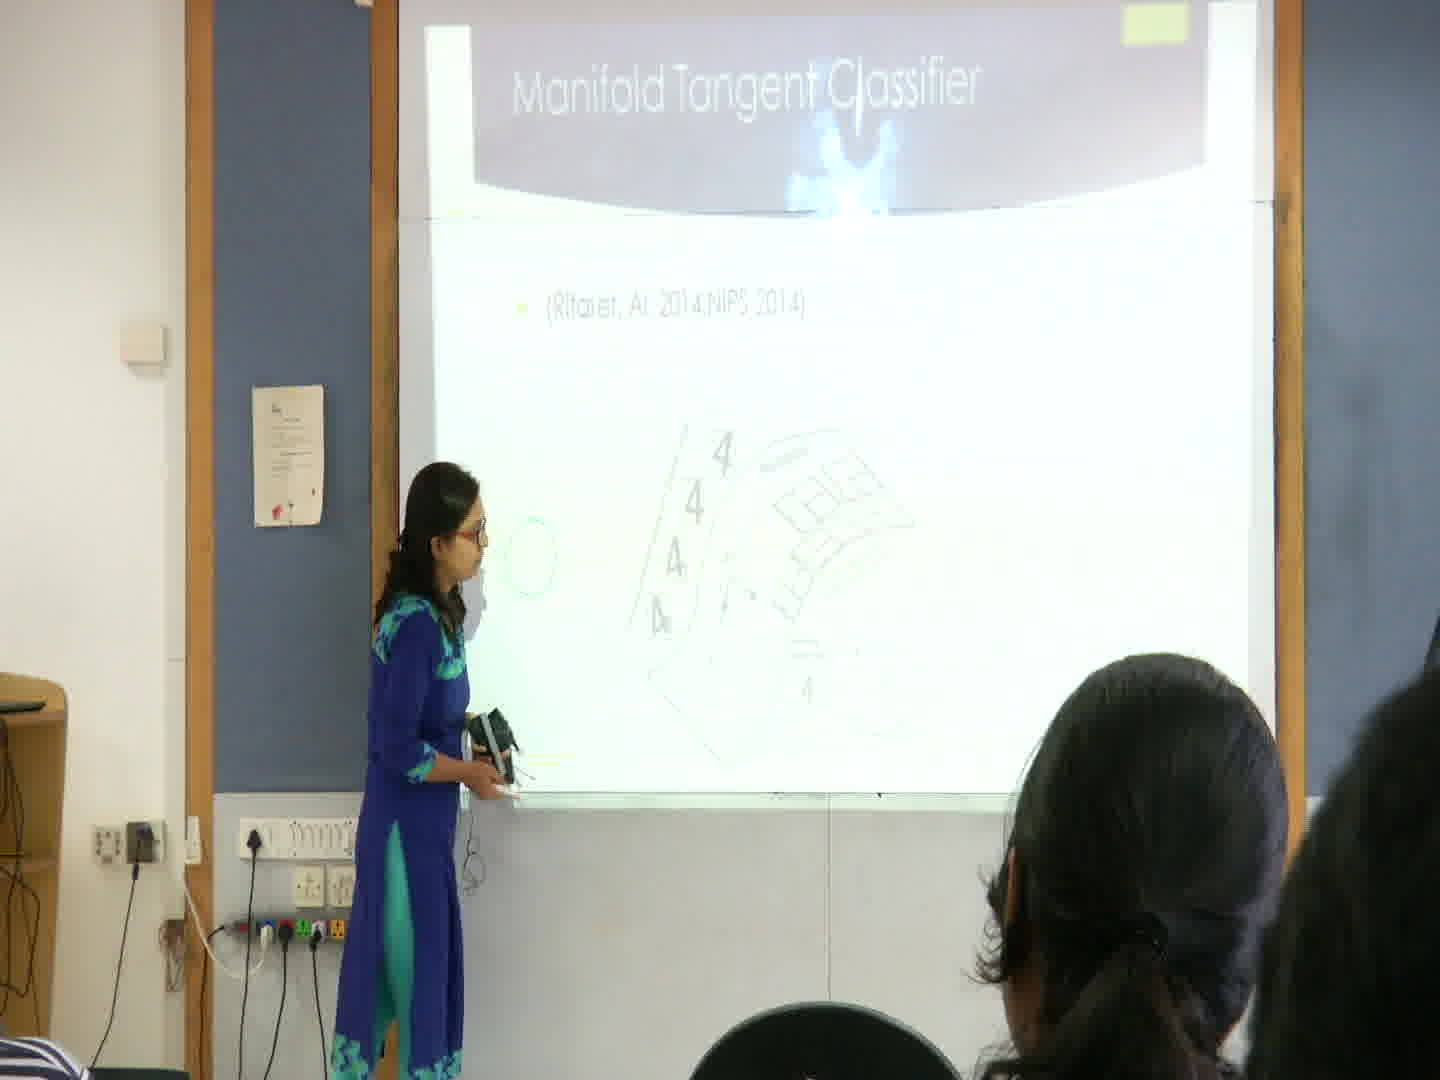slide: (427, 3, 1251, 810)
